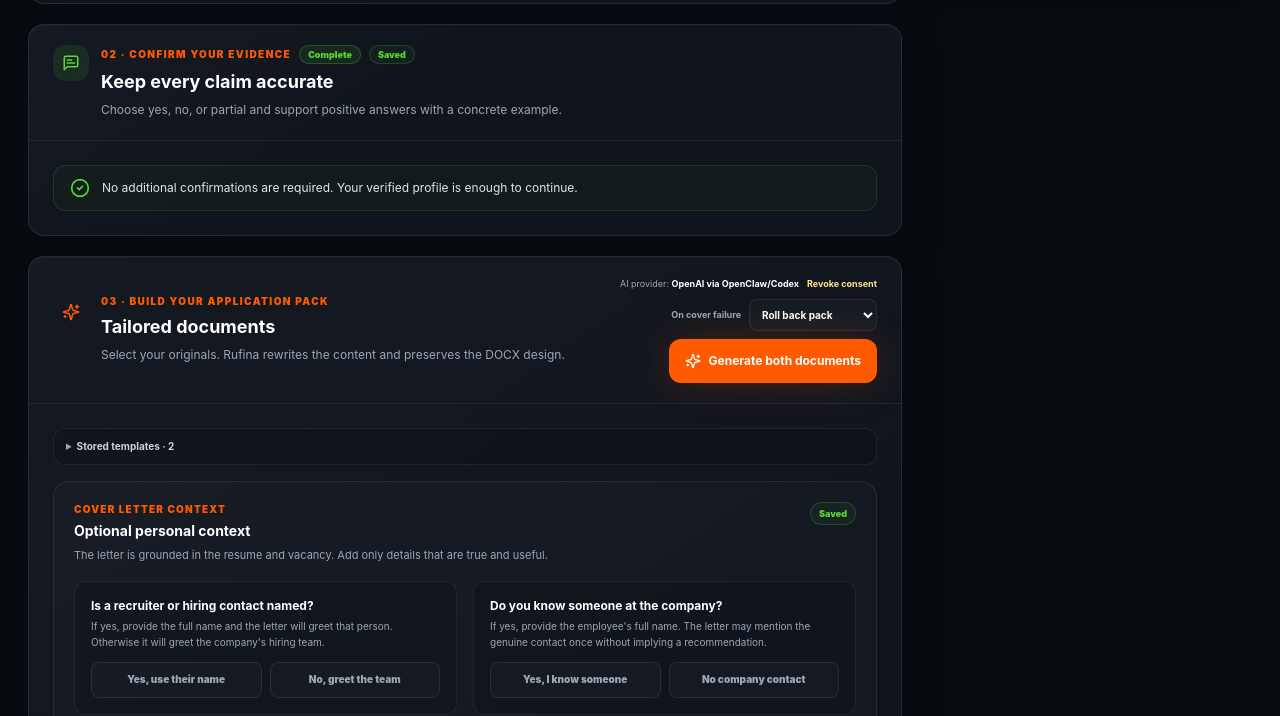
it: ApplicationWorkspace › reuses the resume artifact and recovers a committed pack after response loss
The width and height of the screenshot is (1280, 716).
(page scrolled)
Click the button "Generate both documents".
click(773, 360)  # box [668,338,877,382]
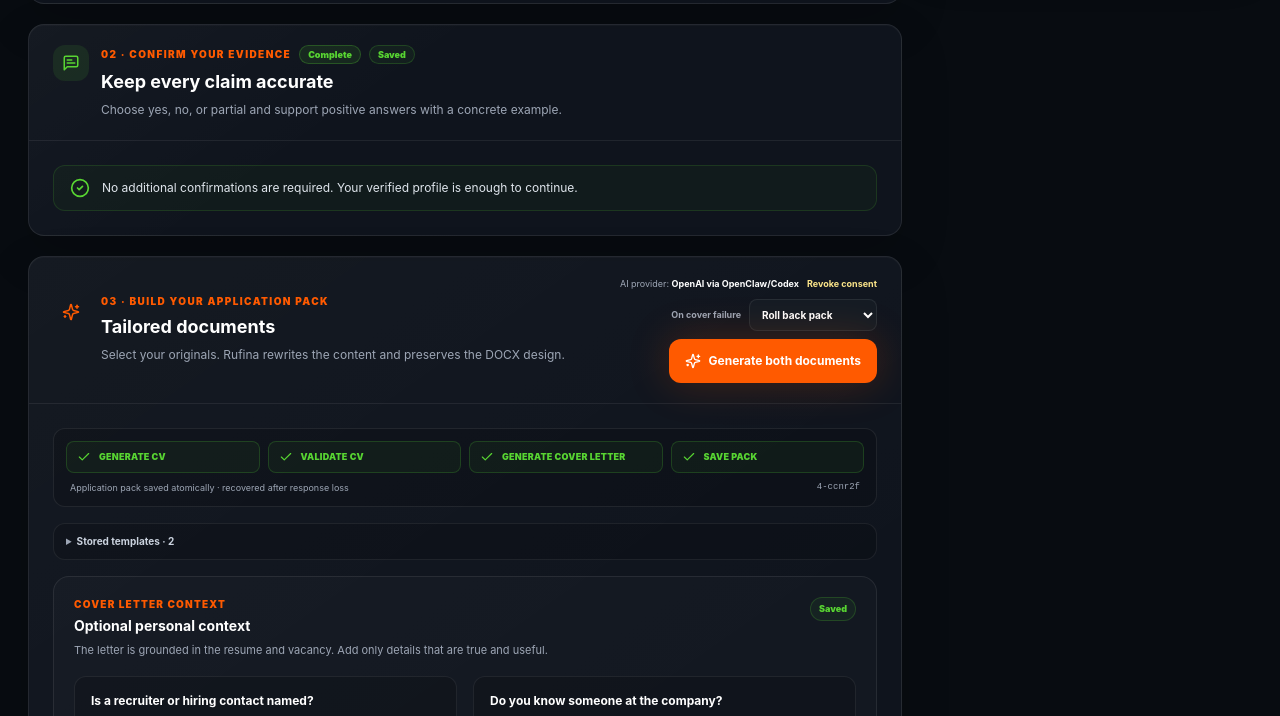
Expected: the text "recovered after response loss" is shown, [70,482,349,492]
